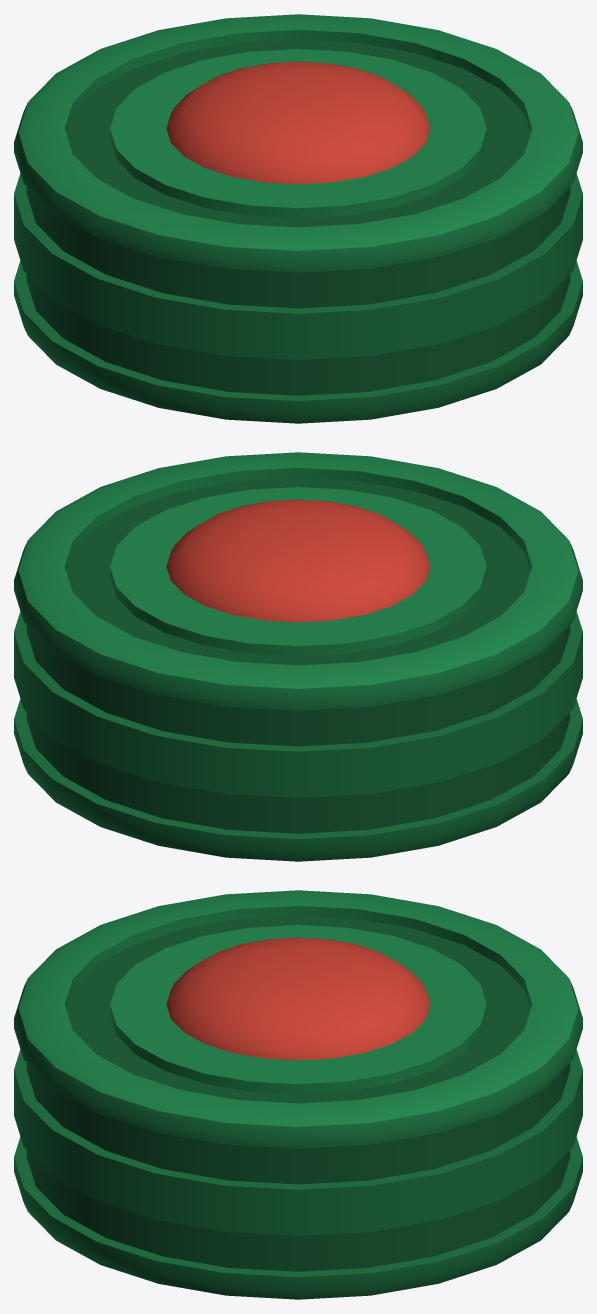
Rendered from Mine.fbx.
3 renders of one model, top to bottom at view 1: azimuth 30°, elevation 25°; view 2: azimuth 150°, elevation 25°; view 3: azimuth 270°, elevation 25°, orthographic.
Parts seen in each view (by area): view 1: Mine; view 2: Mine; view 3: Mine.
Part boxes in pixels (x1,y1,x2,y2): Mine: (14,14,582,423); Mine: (14,452,582,861); Mine: (14,890,582,1299).
Bounding box in the file's own units: 0.7014 × 0.2961 × 0.7014.
